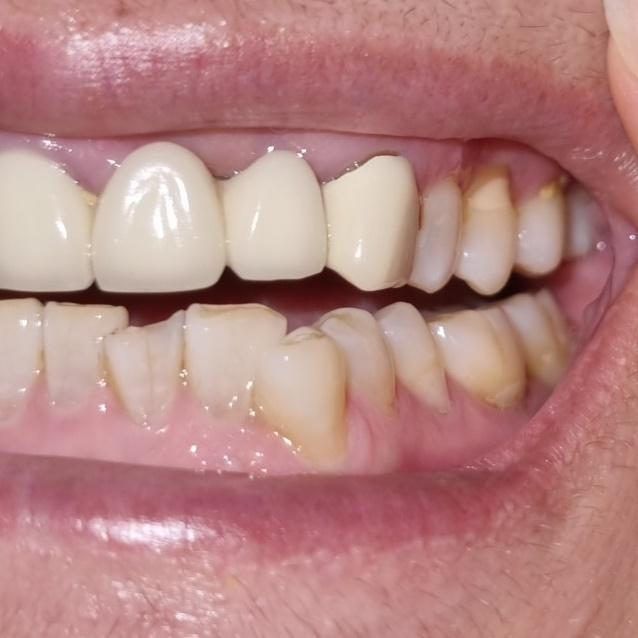Crowding: (191, 304, 372, 432), (41, 299, 184, 427)
